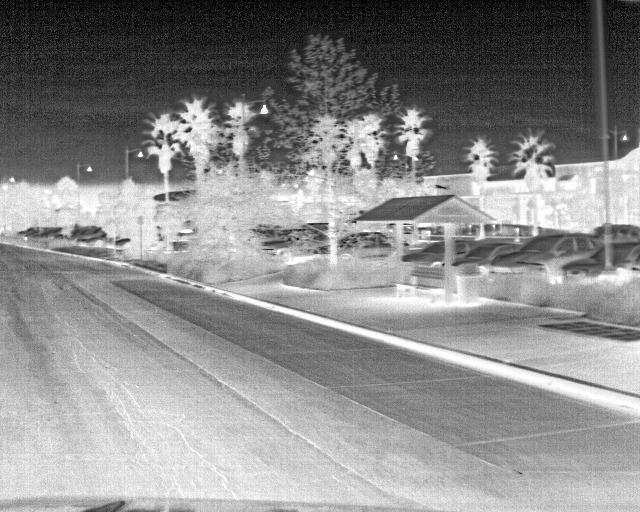car: (489, 230, 605, 280), (451, 239, 514, 271), (335, 230, 396, 260), (265, 222, 327, 249), (561, 248, 606, 280), (605, 240, 638, 275), (401, 241, 444, 267), (78, 234, 110, 248), (112, 234, 133, 249)
